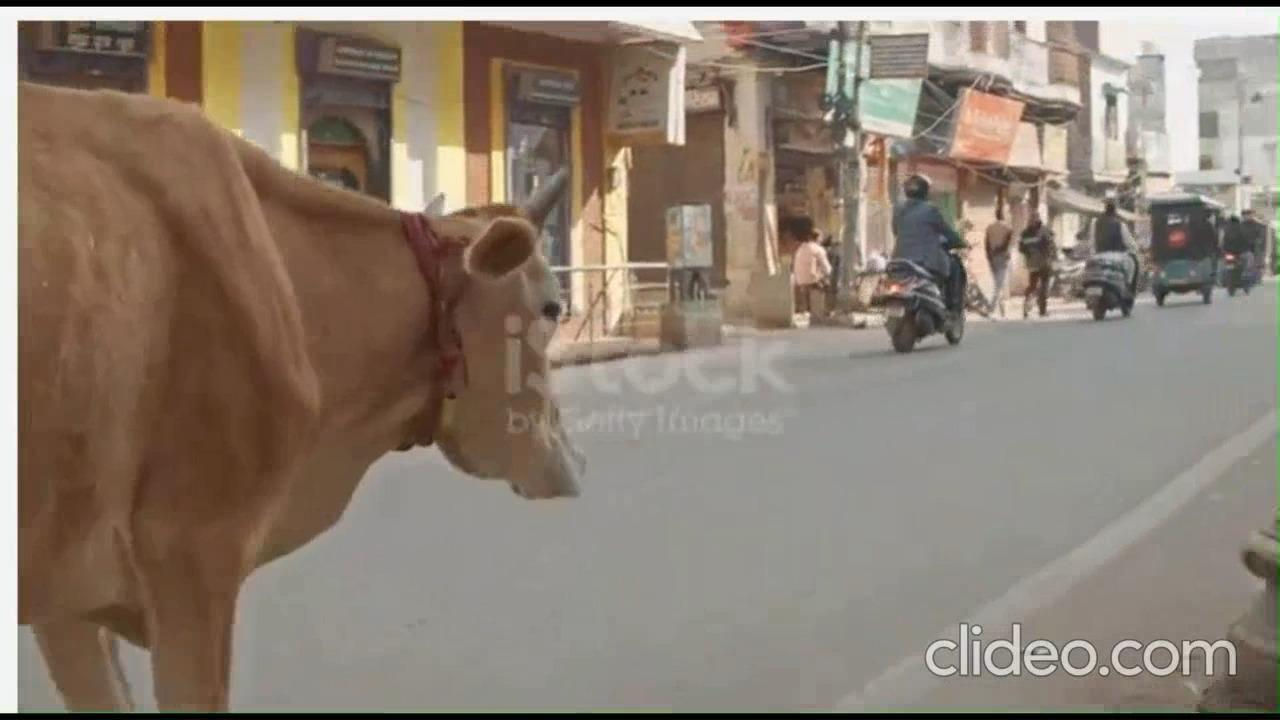Cow: (16, 74, 584, 718)
